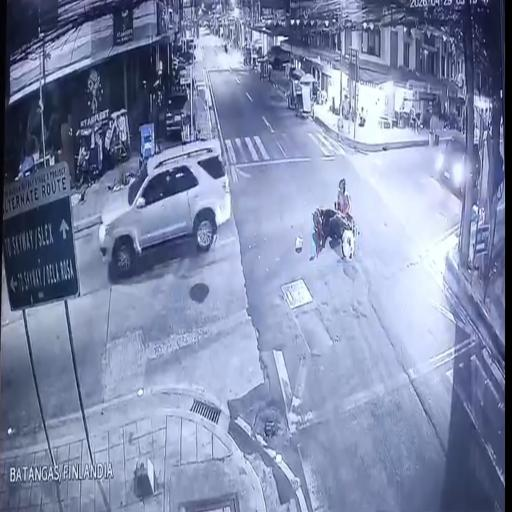Car: (100, 128, 233, 266)
Motor: (312, 191, 358, 261)
